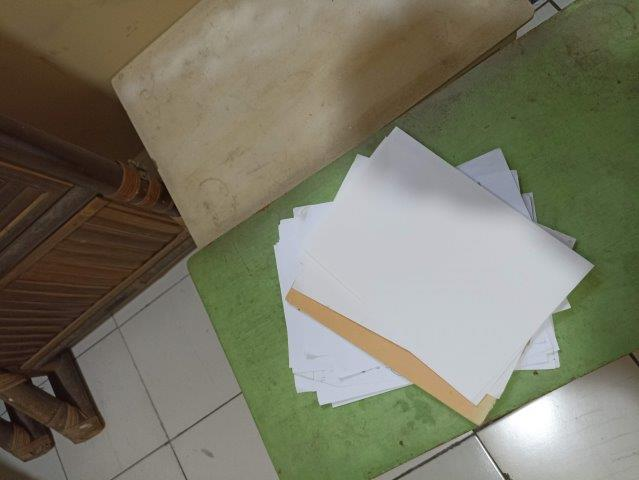kertas: (273, 127, 595, 425)
